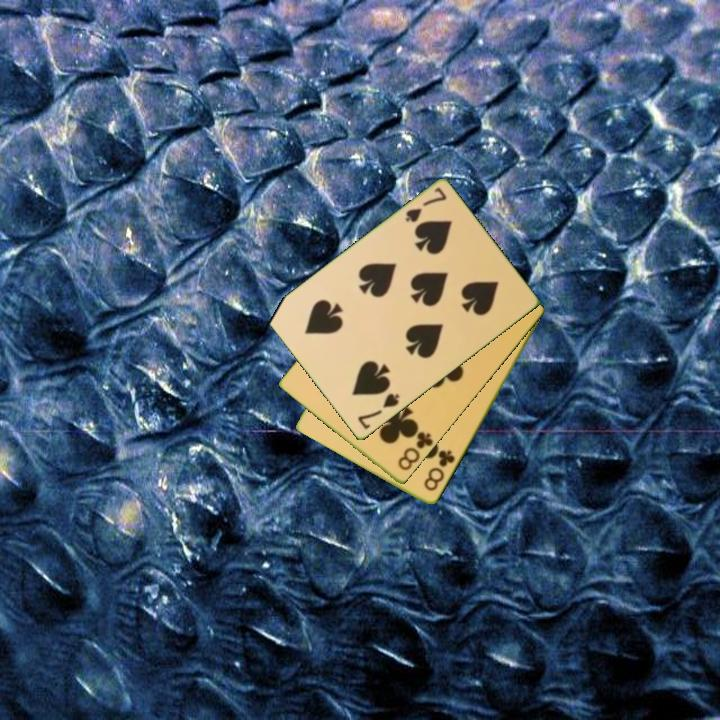7s: (354, 390, 402, 433), (401, 184, 449, 226)
8c: (394, 425, 436, 474), (420, 447, 458, 494)
